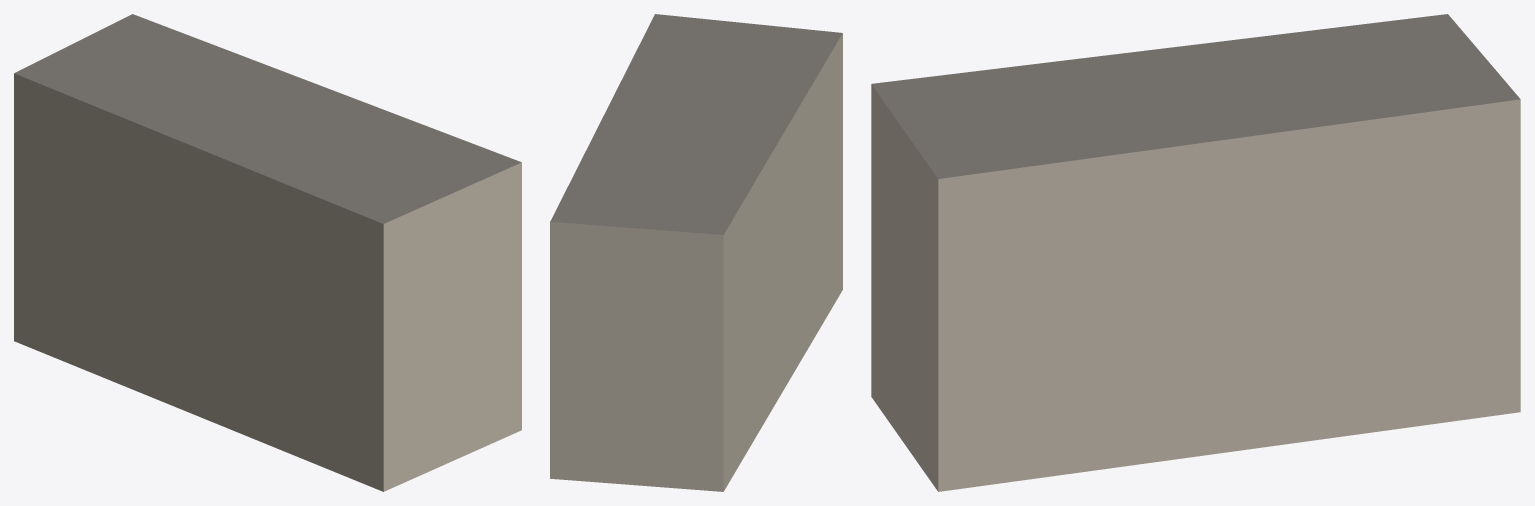
3 views of the same model, side by side, from view 1: azimuth 30°, elevation 25°; view 2: azimuth 150°, elevation 25°; view 3: azimuth 270°, elevation 25° (orthographic). The views are drawn at different scales.
Visible parts, largest first — view 1: HP-w1197061592; view 2: HP-w1197061592; view 3: HP-w1197061592.
Boxes of the visible parts, x1,y1,x2,y2 form: HP-w1197061592: (14,14,521,491); HP-w1197061592: (550,14,842,491); HP-w1197061592: (871,14,1520,491).
Size of the model in its own units: 20.37 by 18 by 33.86.
